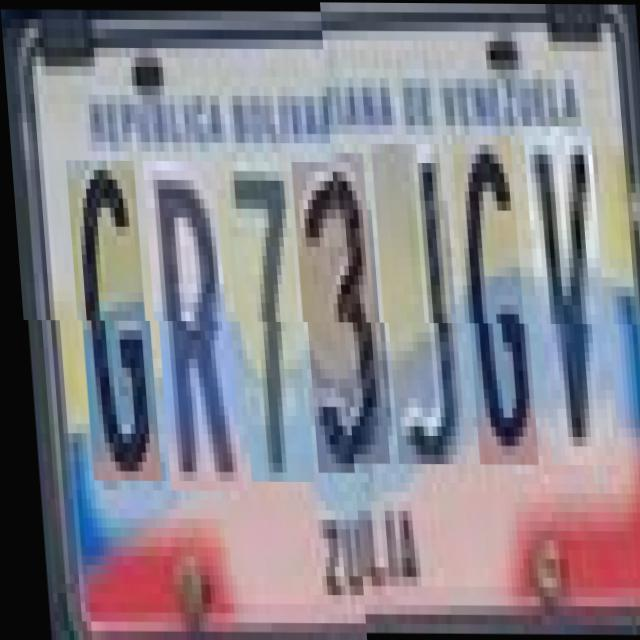3: (294, 162, 384, 473)
7: (225, 162, 308, 482)
G: (68, 160, 154, 480), (454, 144, 532, 474)
J: (374, 153, 460, 473)
R: (145, 160, 236, 490)
V: (526, 134, 613, 473)
